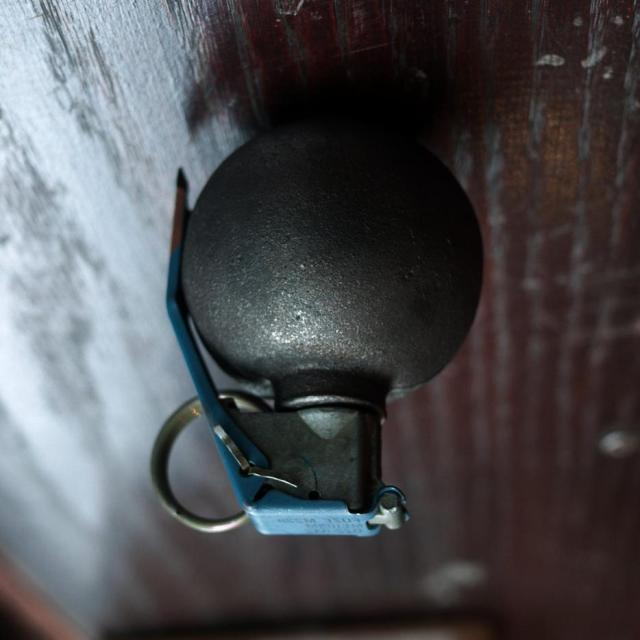grenade: (166, 112, 484, 538)
